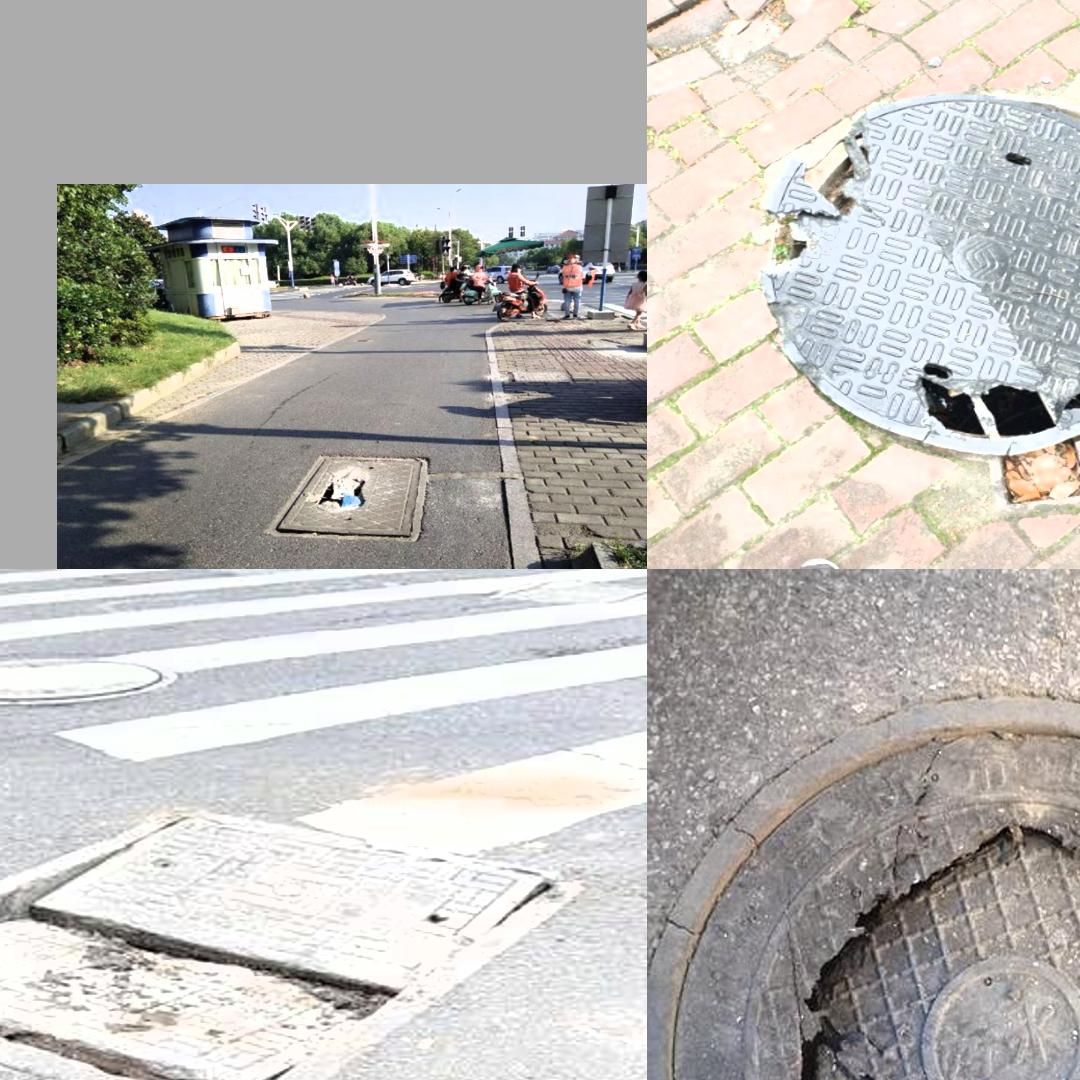broke: (0, 771, 587, 1080), (665, 683, 1080, 1080), (759, 93, 1080, 506), (264, 454, 427, 542)
